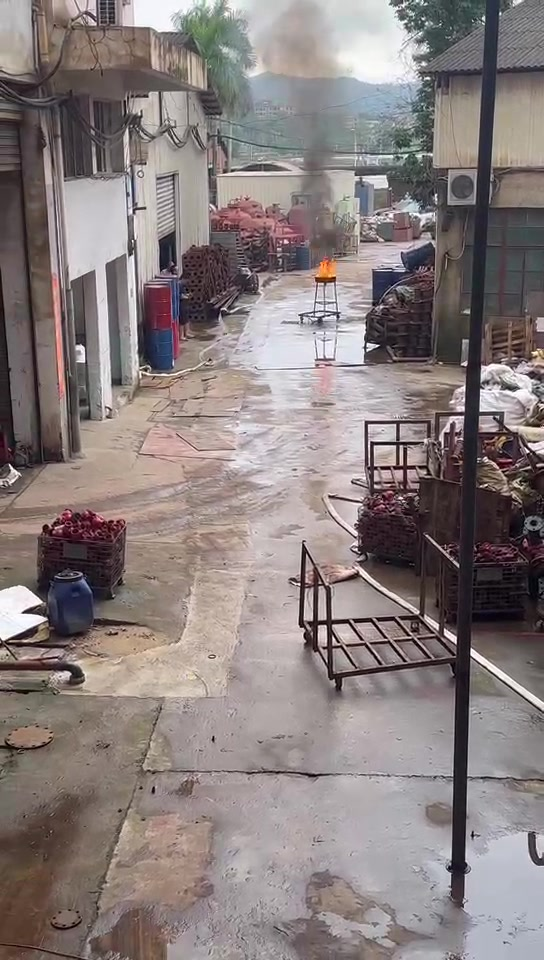fire: (315, 259, 335, 276)
